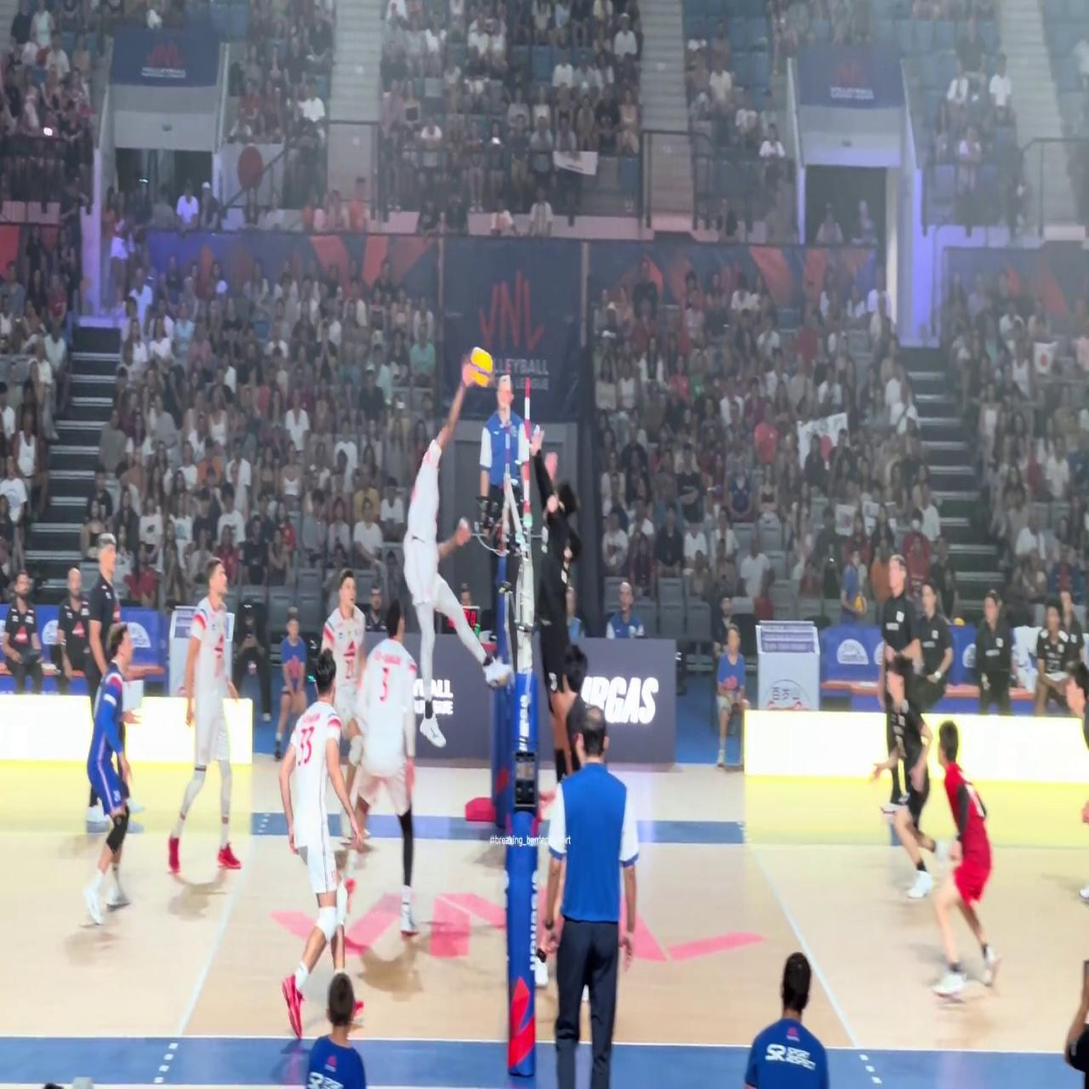ball: (470, 347, 492, 387)
